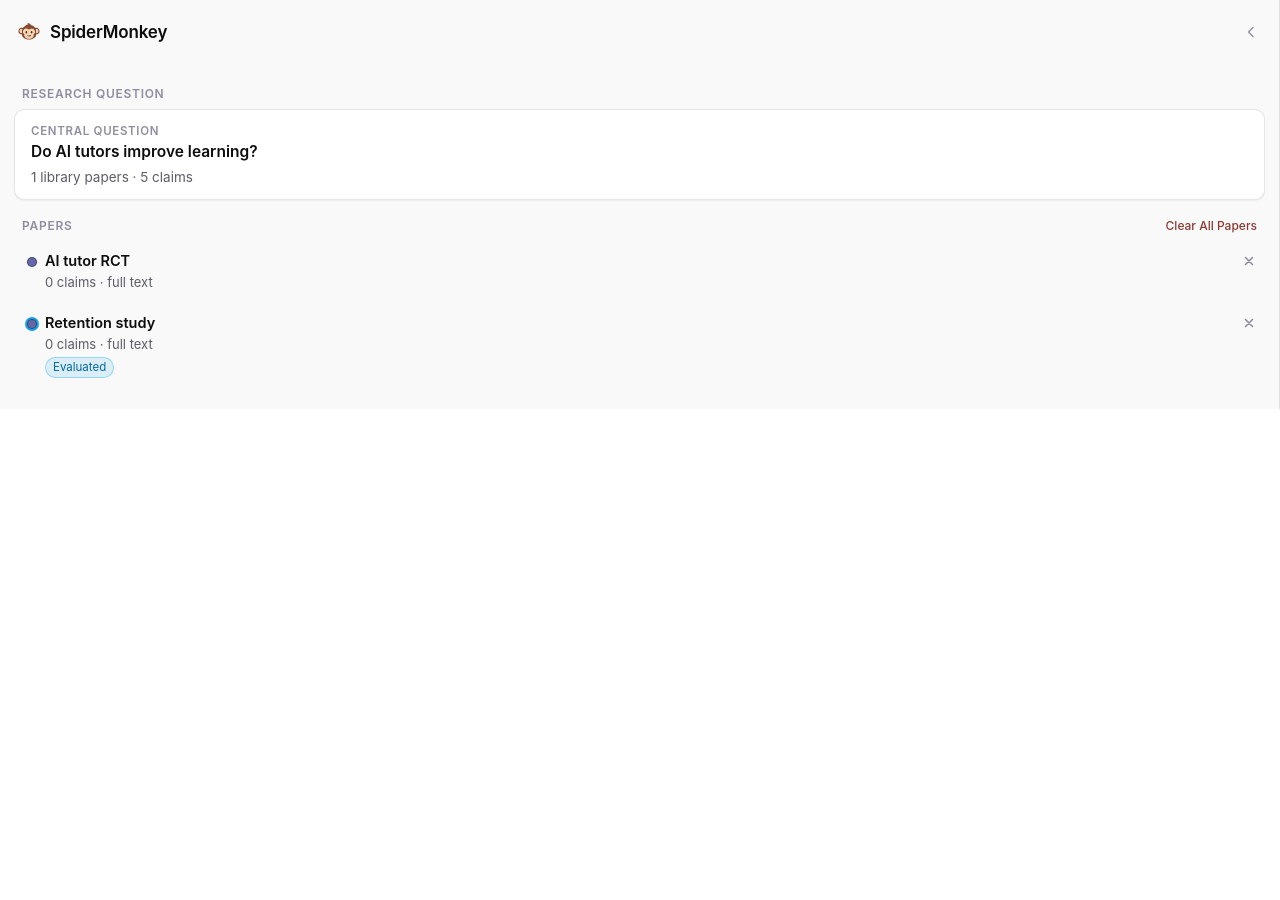
Test: WorkspacePanel — clearing papers › cancel changes nothing
The width and height of the screenshot is (1280, 900).
Click the button named "Remove “AI tutor RCT” from this project" at (1247, 261), box [1235,249,1259,273]
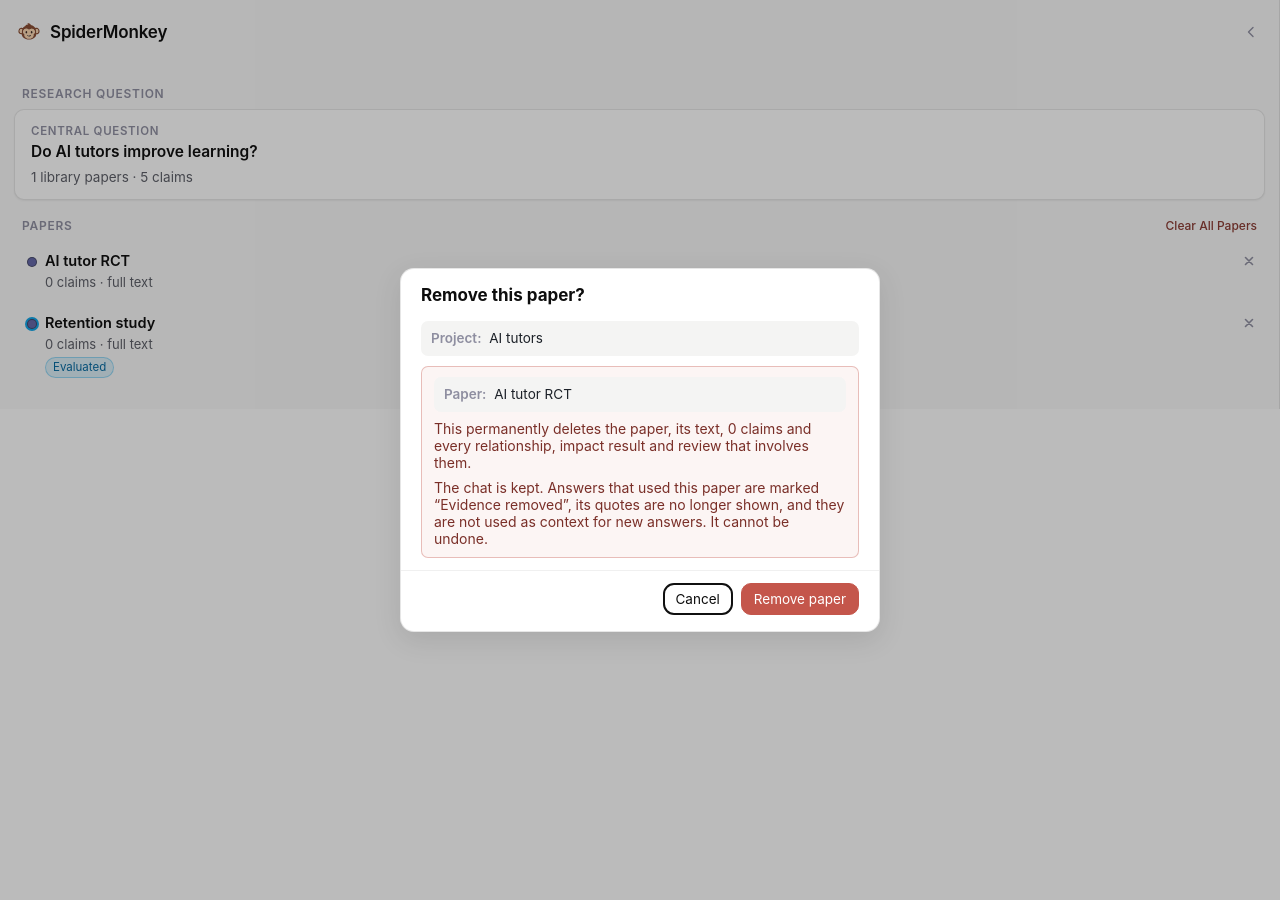
Click the button "Cancel" at (698, 599), box [662,583,733,615]
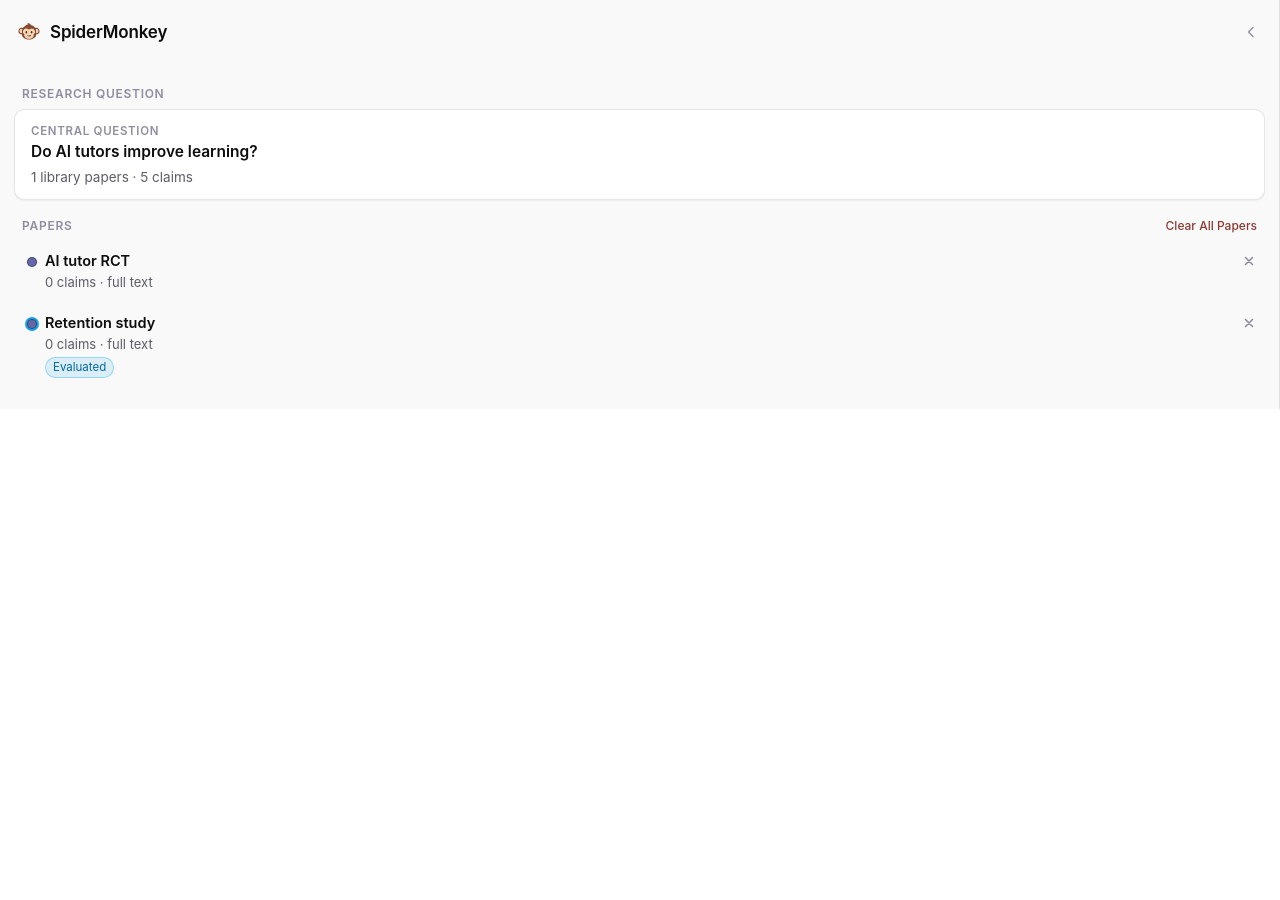
Result: the dialog is gone
